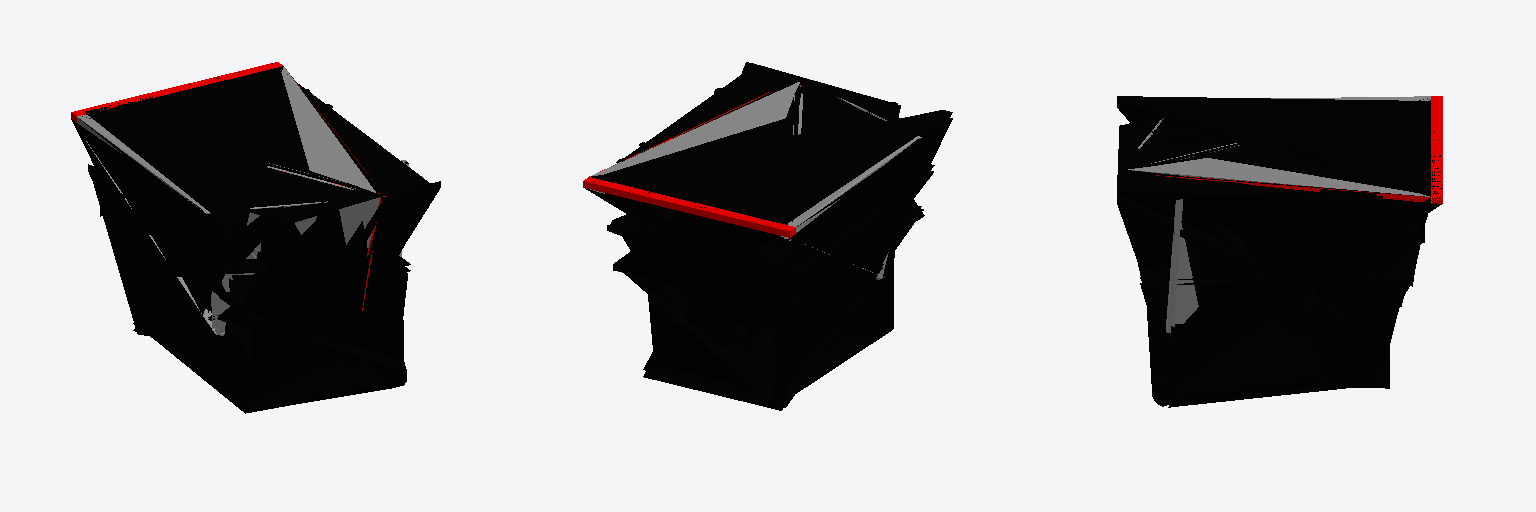
File: Cart.obj
3 views of the same model, side by side, from view 1: azimuth 30°, elevation 25°; view 2: azimuth 150°, elevation 25°; view 3: azimuth 270°, elevation 25° (orthographic).
Visible parts, largest first — view 1: Cylinder005, Box055, Box044; view 2: Cylinder005, Box055, Box043, Box044; view 3: Cylinder005, Box055, Box046, Box043.
Part boxes in pixels (x1,y1,x2,y2): Cylinder005: (71, 62, 440, 413); Box055: (77, 67, 379, 334); Box044: (71, 62, 281, 121); Cylinder005: (585, 62, 952, 410); Box055: (586, 82, 921, 278); Box043: (583, 177, 795, 237); Box044: (583, 177, 795, 236); Cylinder005: (1117, 96, 1442, 407); Box055: (1128, 96, 1441, 202); Box046: (1156, 96, 1440, 201); Box043: (1431, 96, 1442, 203).
Size of the model in its own units: 253747 by 256139 by 346206.